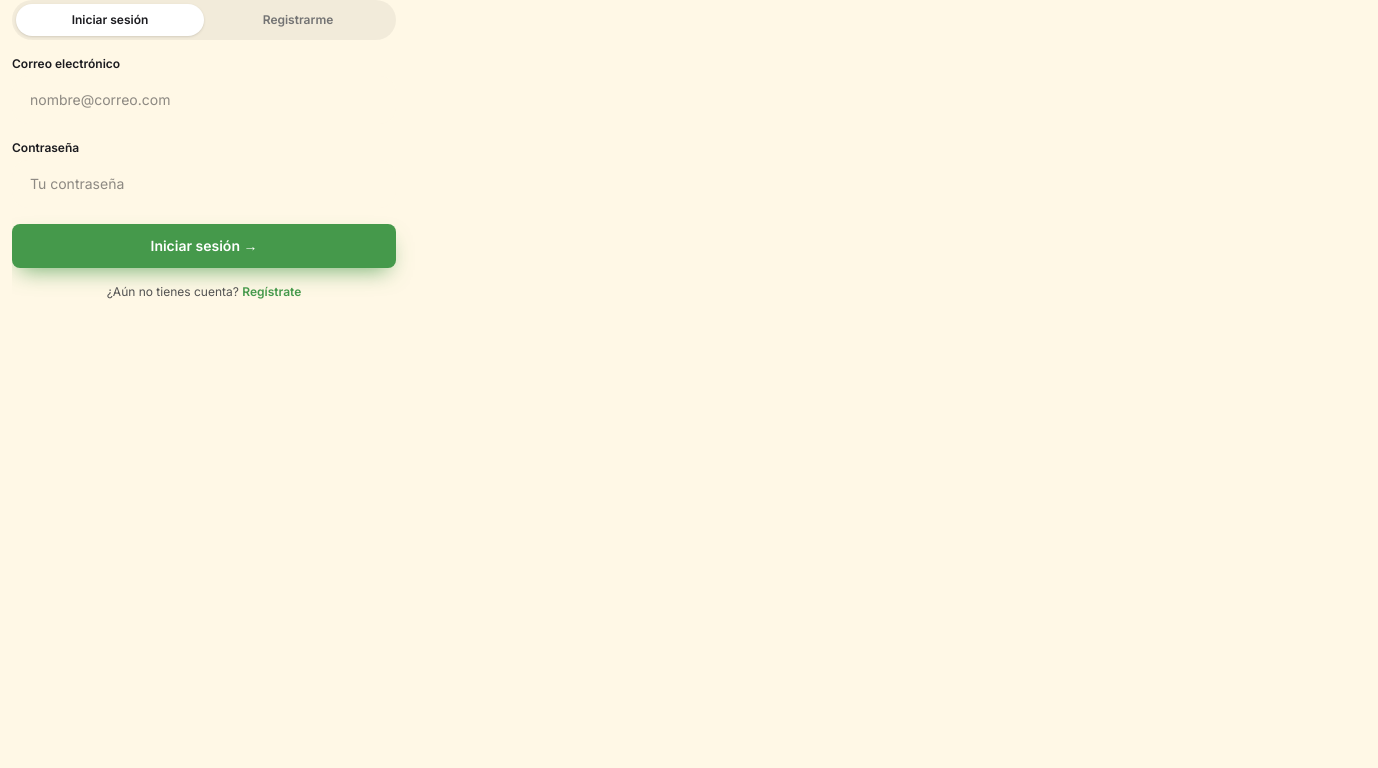
Test: shows a success toast after logging in
In the field labelled "Correo electrónico": (204,100) [12,76,396,124], type "valentina@correo.com"
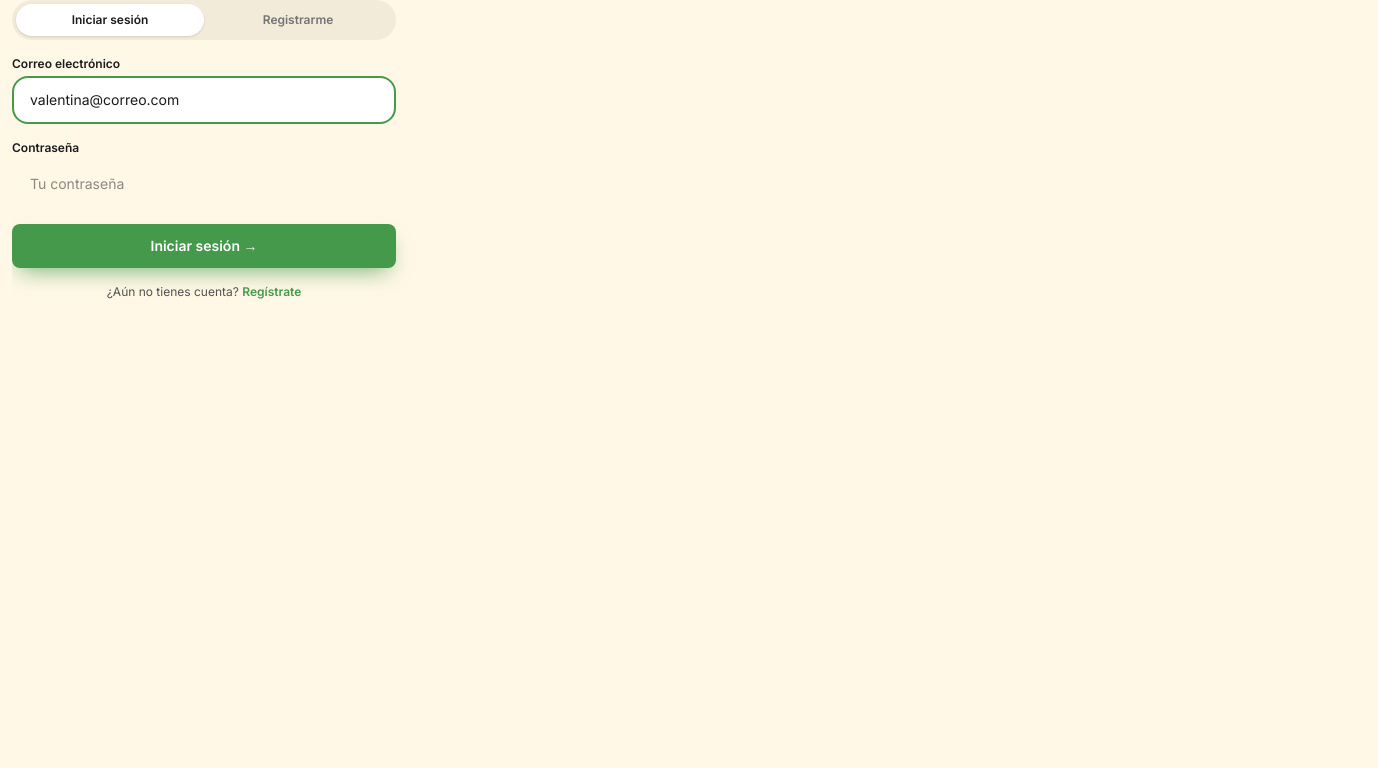
In the password field labelled "Contraseña": (204,184) [12,160,396,208], type "secreto1"
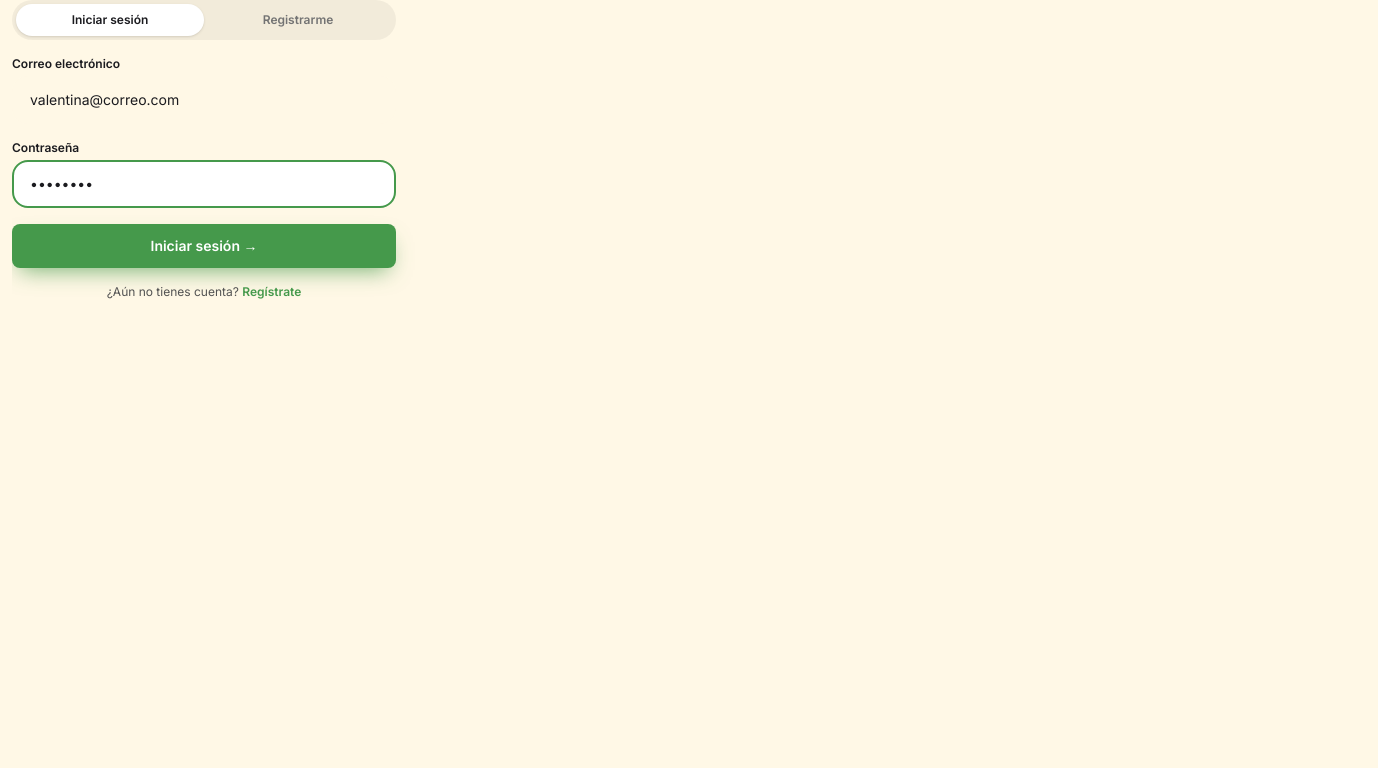
Click the button "Iniciar sesión →": (204,246) [12,224,396,268]
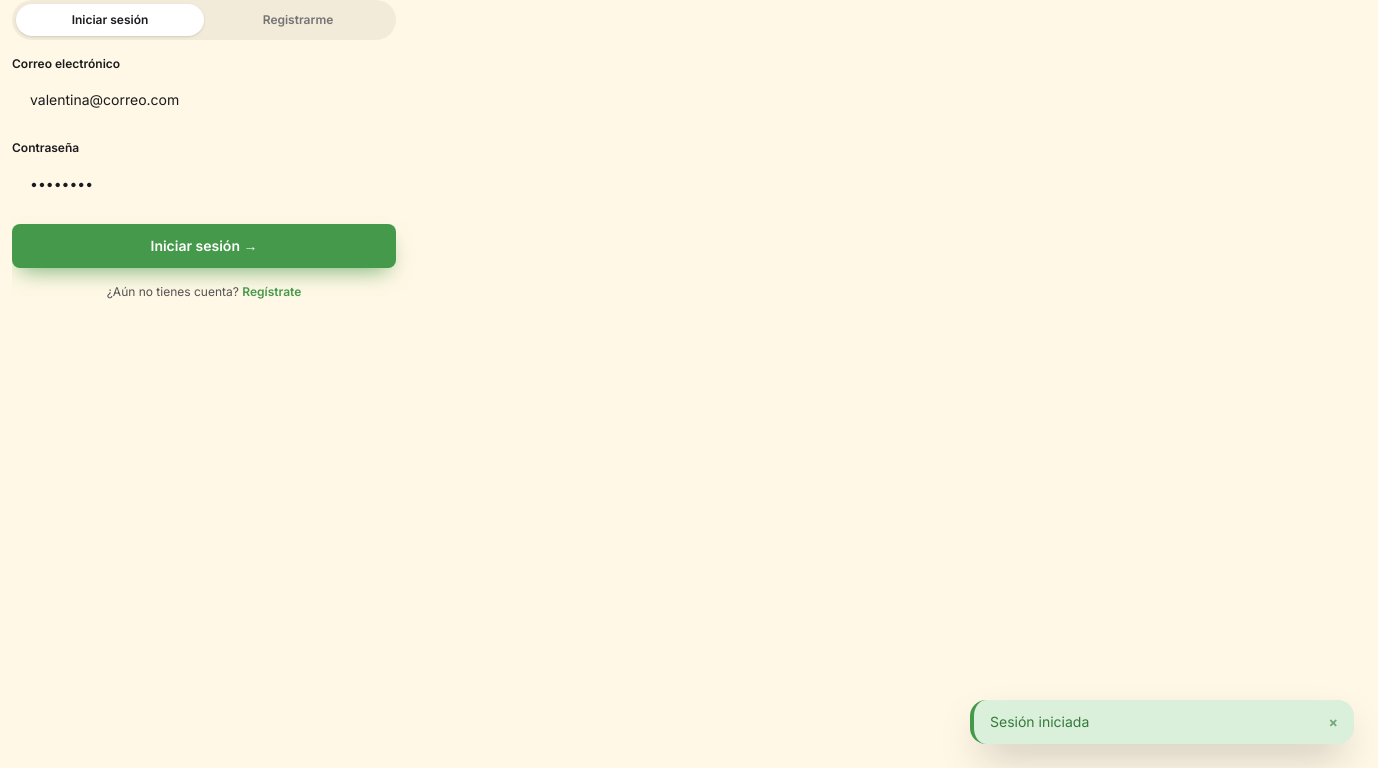
Expected: the message shows "Sesión iniciada", [990,713,1089,730]
